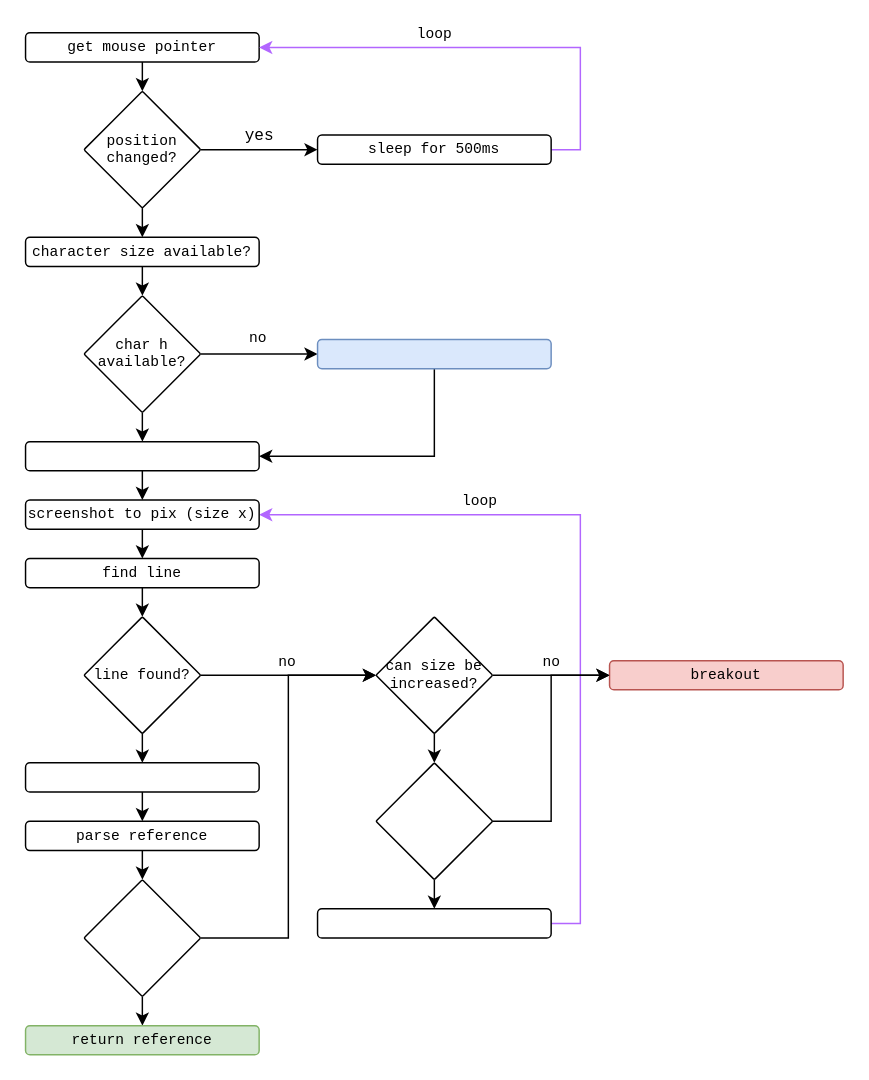
Some shapes in this 869 by 1080 pixel diagram are drawn without their labels. The box of each missing label's shape, as (x1, y1, x2, y2) in pixels:
cursor in area?: (374, 761, 493, 880)
determine screenshot size: (24, 440, 259, 471)
increase (size x): (316, 907, 551, 938)
reference found?: (82, 878, 201, 996)
take standard char height: (316, 338, 551, 369)
update char height: (24, 761, 259, 792)
